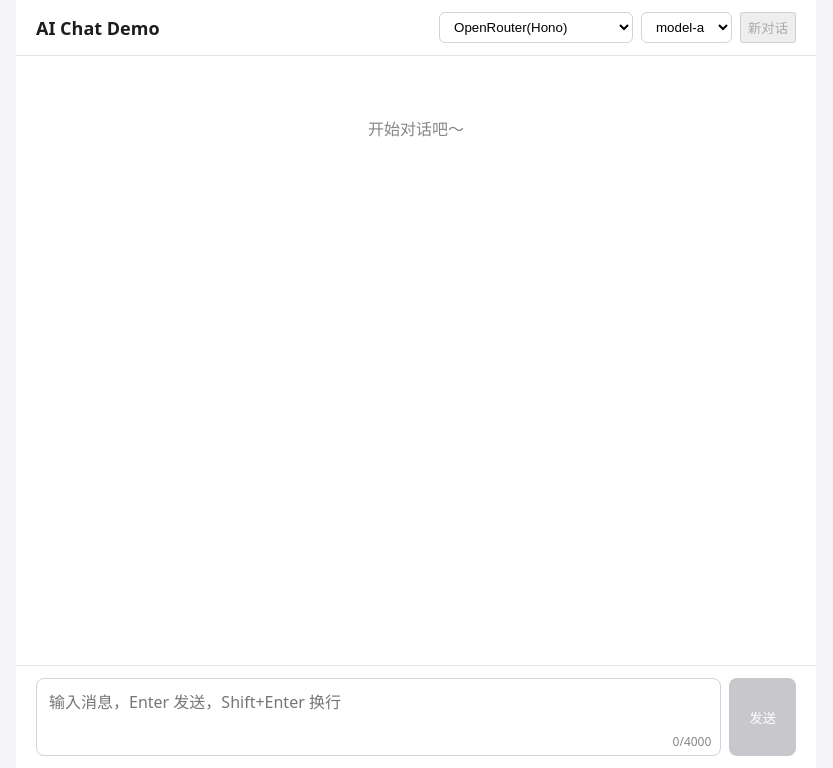
App › 请求太频繁时,在回复里提示要等几秒
The image size is (833, 768).
Type "hi" into the text box at (379, 717), box x1=36 y1=678 x2=721 y2=756
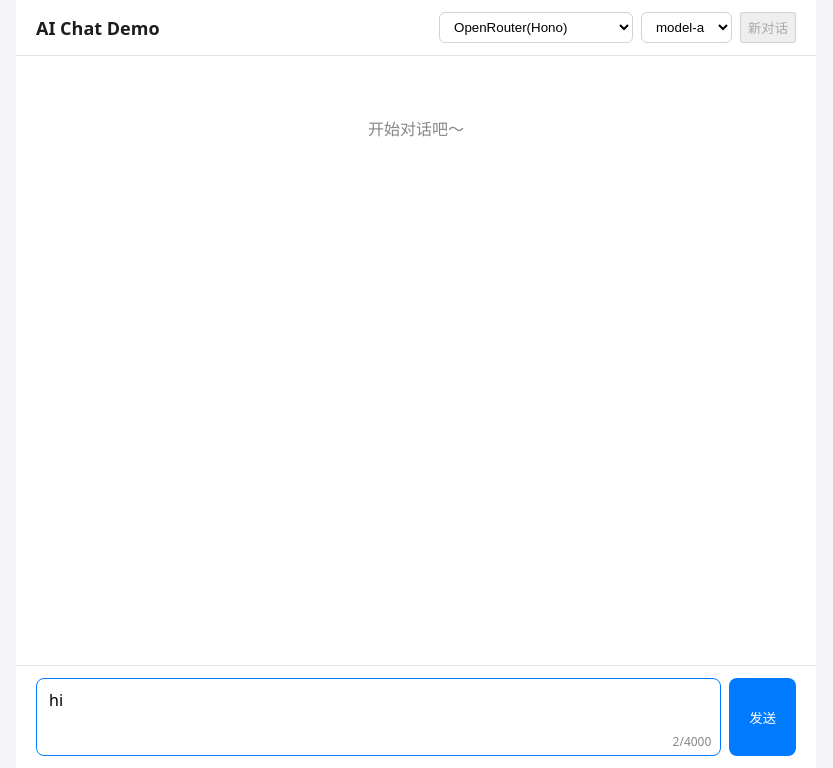
Click the button "发送" at (763, 717), box x1=729 y1=678 x2=796 y2=756
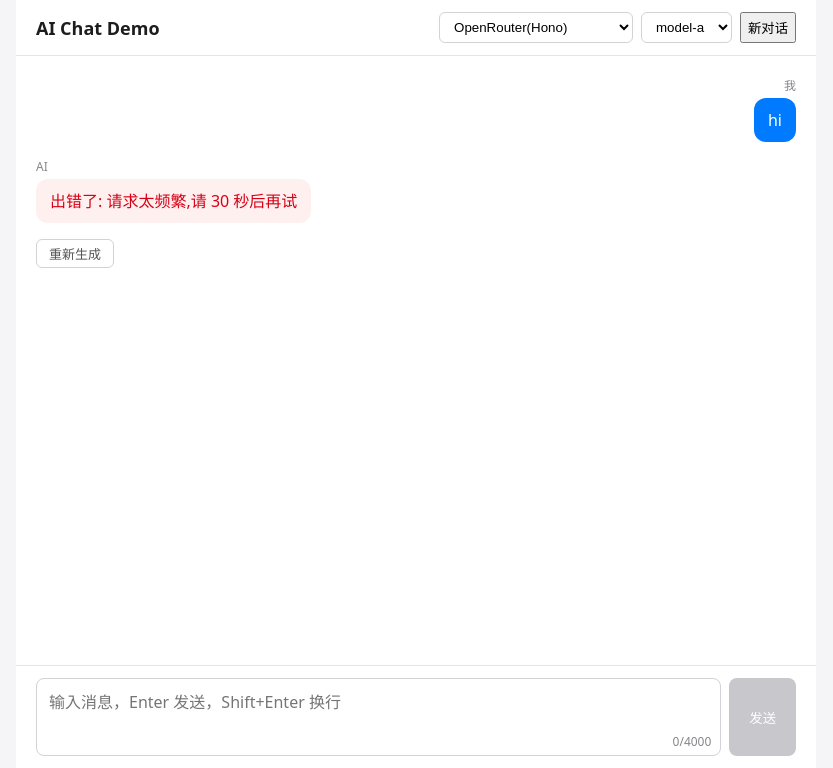
Expected: the text "出错了: 请求太频繁,请 30 秒后再试" is shown, x1=36 y1=179 x2=311 y2=223
